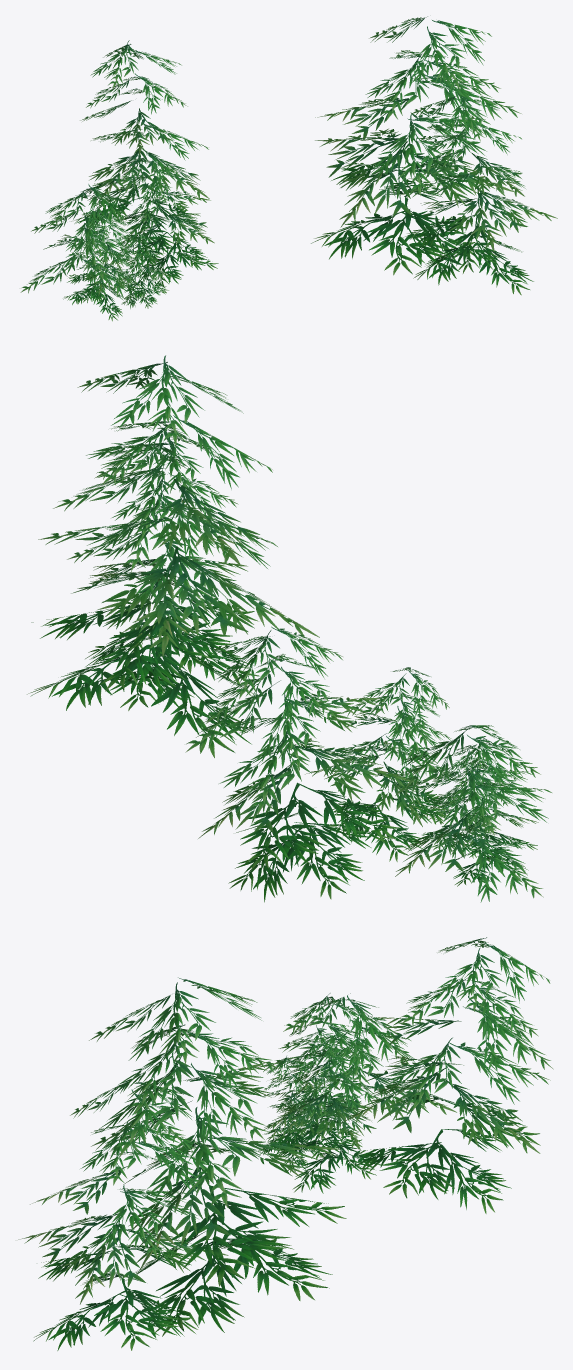
Rendered from Area_09_51.fbx.
3 views of the same model, one above another, from view 1: azimuth 30°, elevation 25°; view 2: azimuth 150°, elevation 25°; view 3: azimuth 270°, elevation 25° (orthographic). The views are drawn at different scales.
Visible parts, largest first — view 1: Area_09_51; view 2: Area_09_51; view 3: Area_09_51.
Part boxes in pixels (left/top/right/bottom): Area_09_51: left=20, top=16, right=557, bottom=321; Area_09_51: left=27, top=355, right=551, bottom=902; Area_09_51: left=18, top=937, right=553, bottom=1350.
Bounding box in the file's own units: 2692 × 1583 × 2168.
